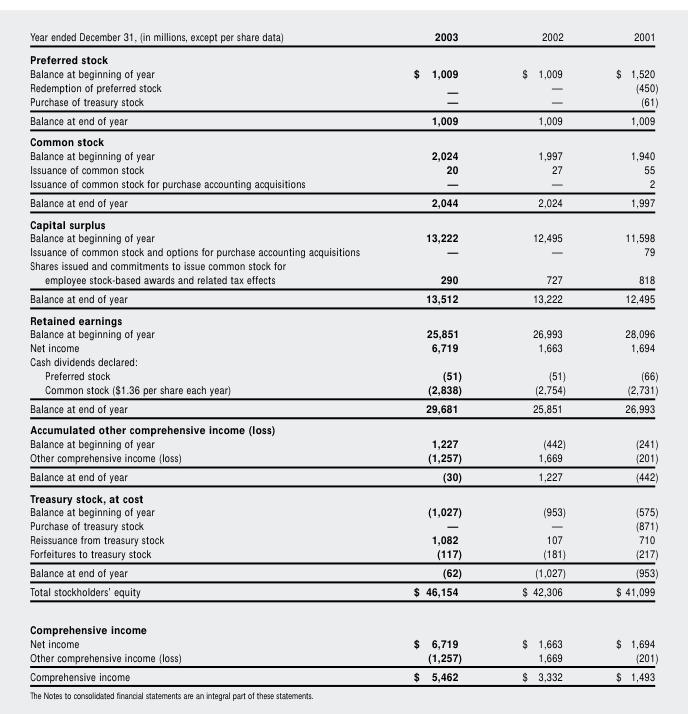table: (29, 28, 657, 682)
table column: (29, 28, 385, 682), (385, 28, 491, 682), (491, 28, 590, 682), (590, 28, 657, 682)
table column header: (29, 28, 657, 47)
table projected row header: (29, 609, 657, 635), (29, 47, 657, 66), (29, 130, 657, 148), (29, 212, 657, 230), (29, 308, 657, 326), (29, 418, 657, 436), (29, 486, 657, 504), (29, 354, 657, 367)
table row: (29, 258, 657, 288), (29, 581, 657, 609), (29, 609, 657, 635), (29, 110, 657, 130), (29, 192, 657, 212), (29, 288, 657, 308), (29, 398, 657, 418), (29, 466, 657, 486), (29, 28, 657, 47), (29, 47, 657, 66), (29, 562, 657, 581), (29, 130, 657, 148), (29, 212, 657, 230), (29, 308, 657, 326), (29, 418, 657, 436), (29, 486, 657, 504), (29, 381, 657, 398), (29, 665, 657, 682), (29, 176, 657, 192), (29, 450, 657, 466), (29, 546, 657, 562), (29, 649, 657, 665), (29, 80, 657, 95), (29, 95, 657, 110), (29, 66, 657, 80), (29, 148, 657, 162), (29, 162, 657, 176), (29, 230, 657, 244), (29, 244, 657, 258), (29, 326, 657, 340), (29, 340, 657, 354), (29, 367, 657, 381), (29, 436, 657, 450), (29, 504, 657, 518), (29, 518, 657, 532), (29, 532, 657, 546), (29, 635, 657, 649), (29, 354, 657, 367)
